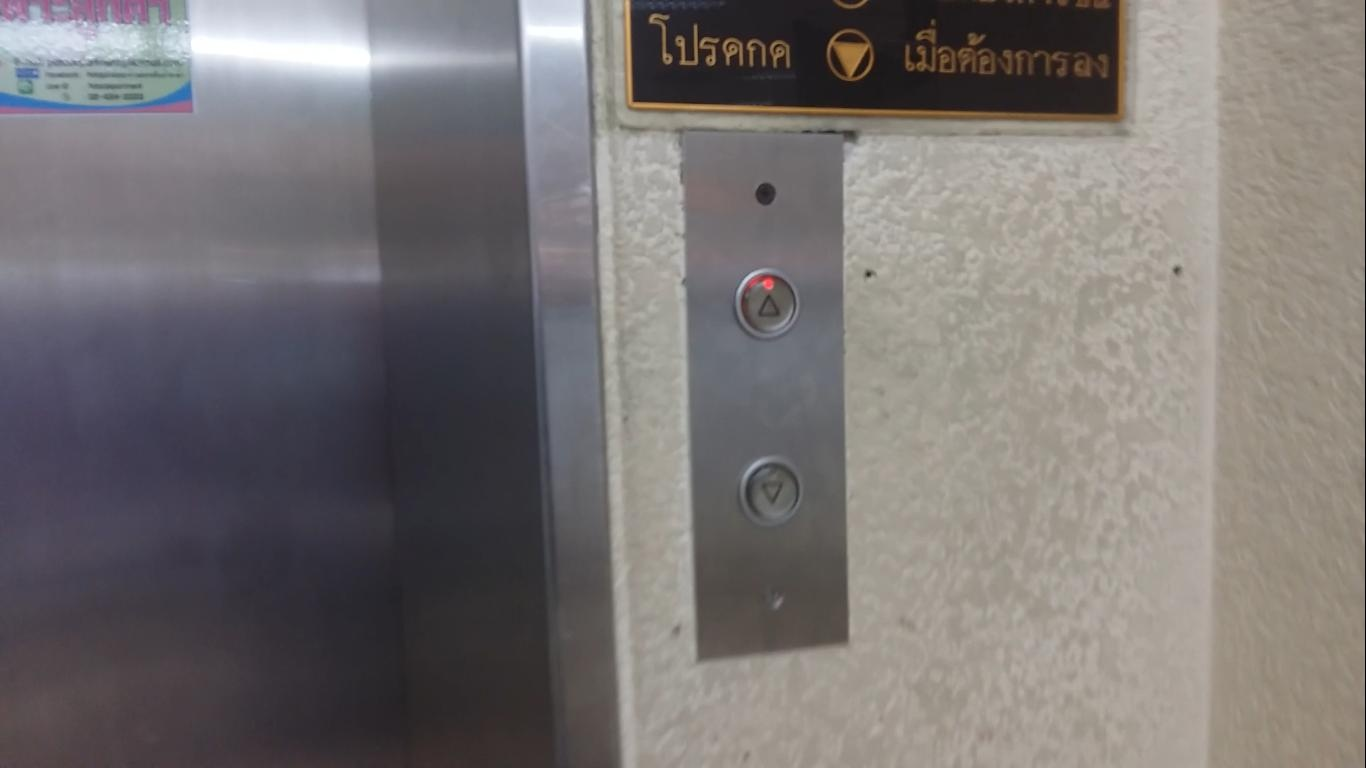down: (738, 454, 806, 529)
up: (733, 269, 800, 341)
